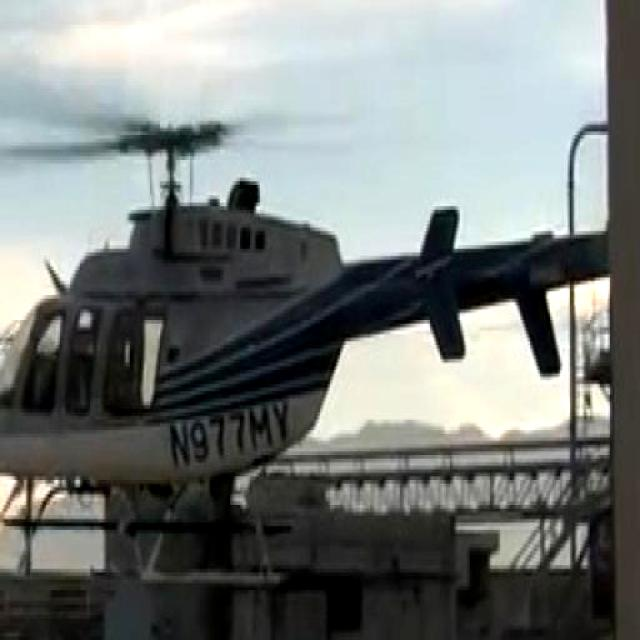drone: (0, 96, 608, 571)
